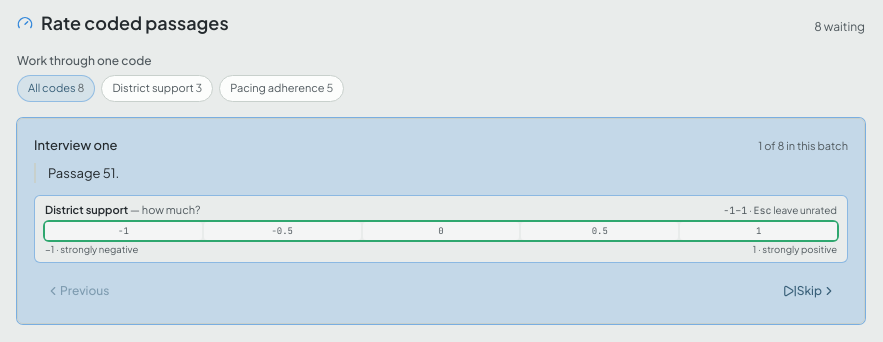
#1456 — re-reading the queue after a rating › 🔴 a FILTER CHANGE does not subtract the rating twice from the other code’s chip
Expected: the text "Passage 51." is shown, [34, 162, 848, 182]
Press 1 in the element showing "−1 −0.5 0 0.5 1", box [45, 222, 837, 240]
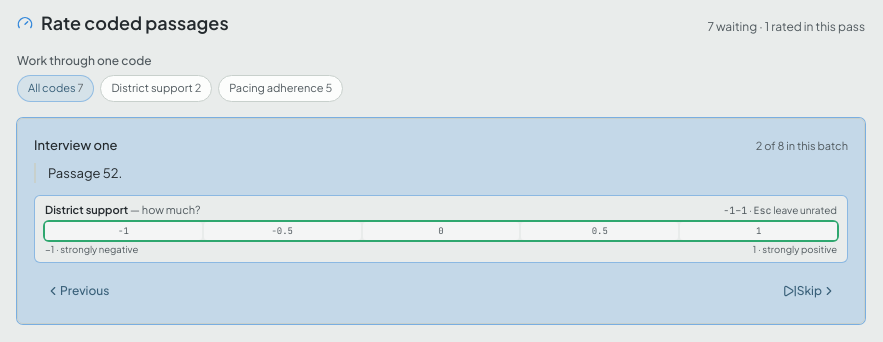
Now the text "Passage 51." is gone
Now the button "District support 2" is shown, box [100, 75, 212, 102]
Click the button "Pacing adherence 5" at (281, 88), box [218, 75, 343, 102]
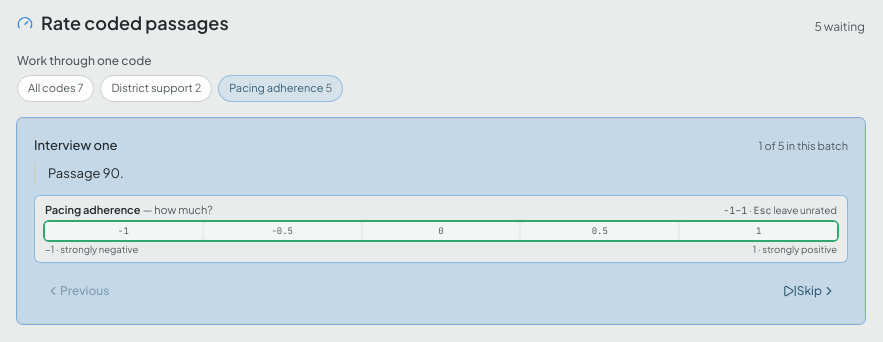
Now the button "District support 2" is shown, box [100, 75, 212, 102]
Now the button "All codes 7" is shown, box [17, 75, 94, 102]
Now the text "Passage 90." is shown, box [34, 162, 848, 182]
